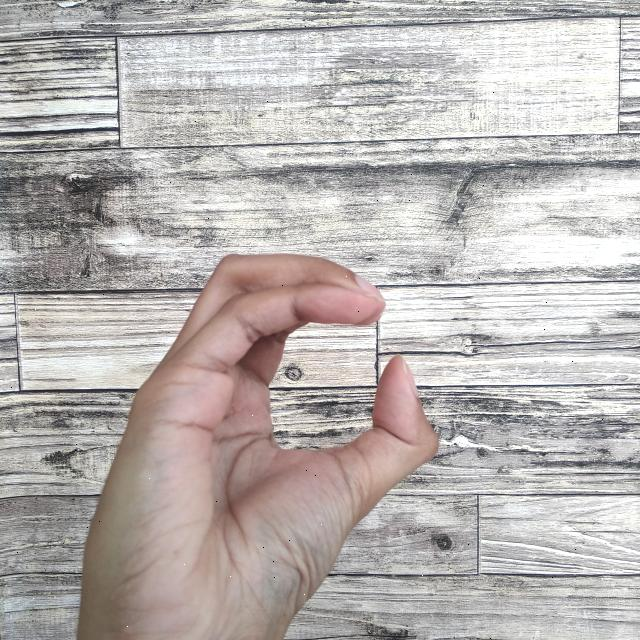C: (70, 246, 447, 640)
